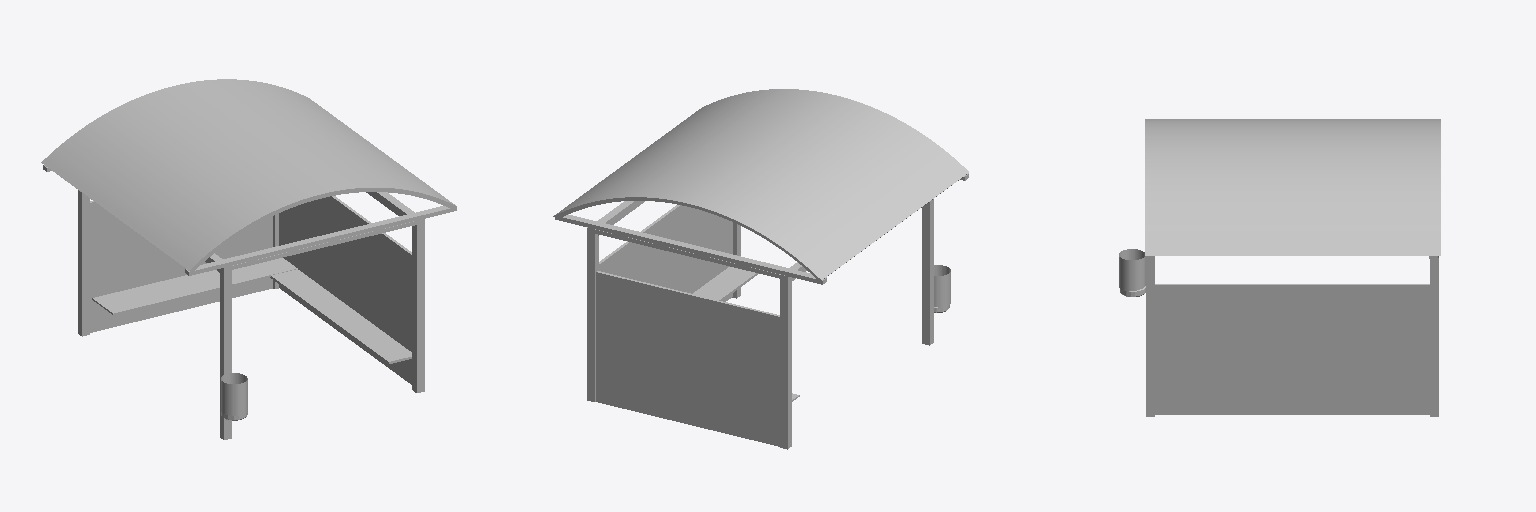
The model's file is остановка_стандартная.obj.
3 renders of one model, left to right at view 1: azimuth 30°, elevation 25°; view 2: azimuth 150°, elevation 25°; view 3: azimuth 270°, elevation 25°, orthographic.
Visible parts, largest first — view 1: Куб.012, Cube.001, Cube, Куб.014, Куб.013, Куб.002, Куб.009, Куб, Куб.003, Поверхность, Куб.010_Куб.011, Куб.005; view 2: Куб.012, Cube, Cube.001, Куб.008, Куб, Куб.003, Куб.001, Куб.013, Куб.004, Поверхность, Куб.011_Куб.010; view 3: Куб.012, Cube.001, Куб.002, Куб.001, Поверхность.
Boxes of the visible parts, x1,y1,x2,y2 form: Куб.012: [41, 79, 456, 270]; Cube.001: [279, 196, 411, 384]; Cube: [90, 201, 272, 332]; Куб.014: [92, 258, 297, 314]; Куб.013: [270, 269, 411, 363]; Куб.002: [412, 219, 424, 392]; Куб.009: [185, 206, 456, 275]; Куб: [78, 190, 89, 336]; Куб.003: [220, 266, 231, 439]; Поверхность: [221, 373, 247, 415]; Куб.010_Куб.011: [190, 188, 454, 271]; Куб.005: [232, 221, 416, 269]; Куб.012: [553, 89, 968, 280]; Cube: [596, 271, 779, 446]; Cube.001: [599, 205, 732, 301]; Куб.008: [555, 214, 826, 284]; Куб: [780, 274, 791, 449]; Куб.003: [922, 199, 933, 345]; Куб.001: [587, 227, 598, 401]; Куб.013: [693, 267, 758, 300]; Куб.004: [595, 229, 779, 278]; Поверхность: [934, 265, 950, 307]; Куб.011_Куб.010: [556, 198, 820, 281]; Куб.012: [1145, 119, 1440, 255]; Cube.001: [1155, 284, 1429, 414]; Куб.002: [1146, 256, 1154, 416]; Куб.001: [1430, 258, 1438, 416]; Поверхность: [1119, 249, 1145, 291].
Bounding box in the file's own units: 6.91 × 5.49 × 7.19.